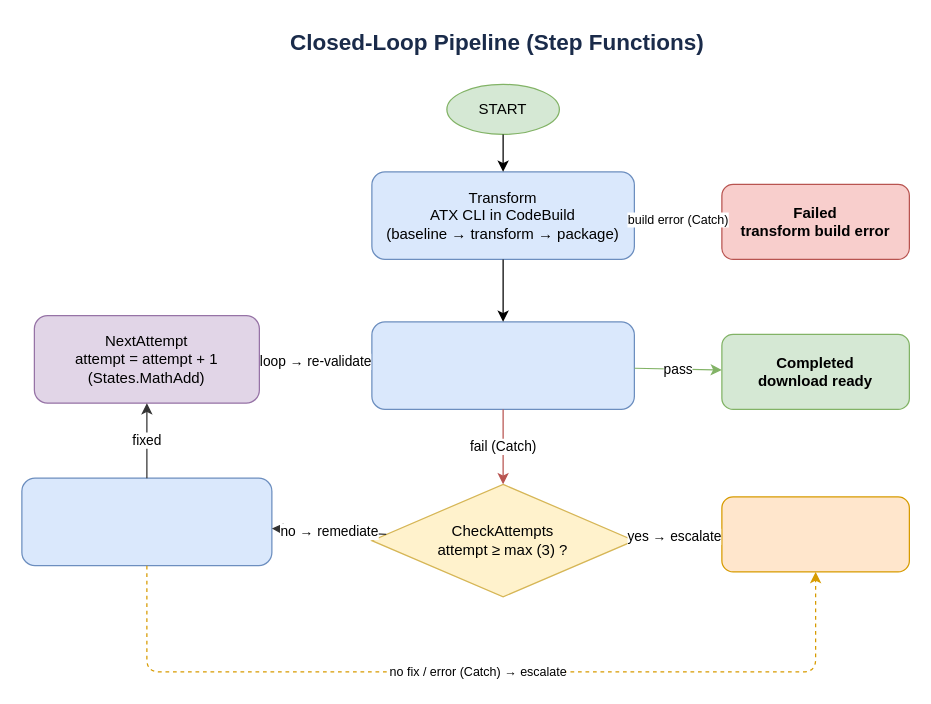
Image size: 931x704. Some labels were removed from this diagram. The shapes that lost their labels are listed below. From the top down, each one's centre as x and y in pixels, then its label:
At point 502,365: "Validate CodeBuild build + tests (publishes validation.log)".
At point 146,521: "Remediate Bedrock (Claude) AI auto-fix overwrite modernized.zip".
At point 815,534: "Escalated human review".
